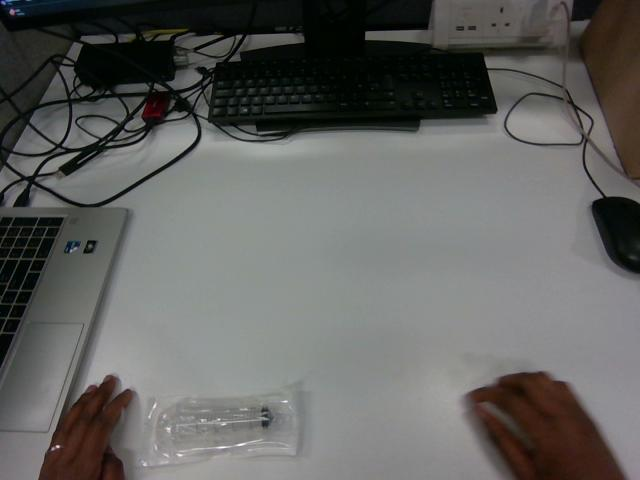syringe: (137, 388, 299, 465)
